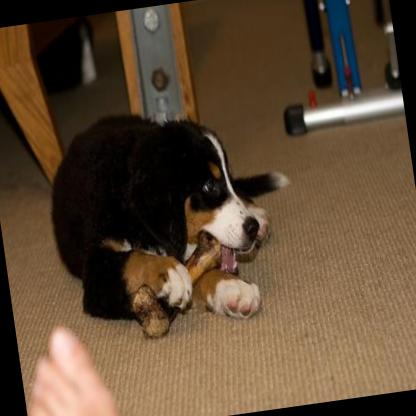Bernese_mountain_dog: (36, 86, 310, 350)
